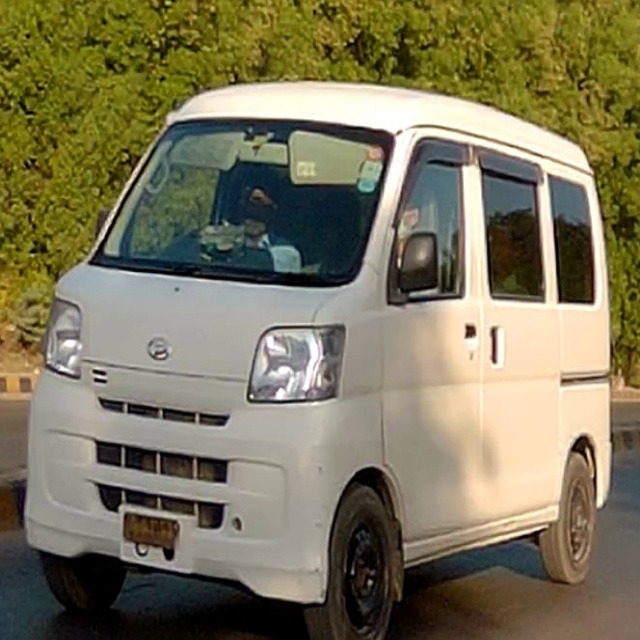Van: (23, 83, 612, 640)
